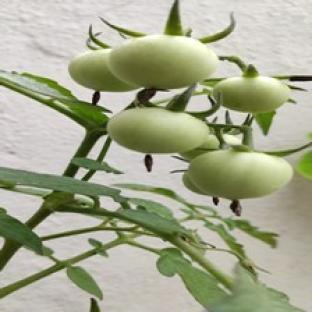Tomato: (109, 35, 218, 89), (189, 150, 292, 200), (108, 108, 208, 153), (69, 49, 136, 91), (214, 76, 289, 112), (180, 134, 220, 160), (183, 172, 205, 194)
